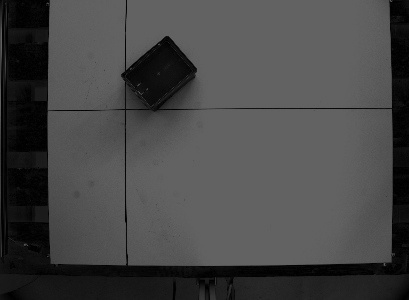klts: (118, 31, 199, 114)
